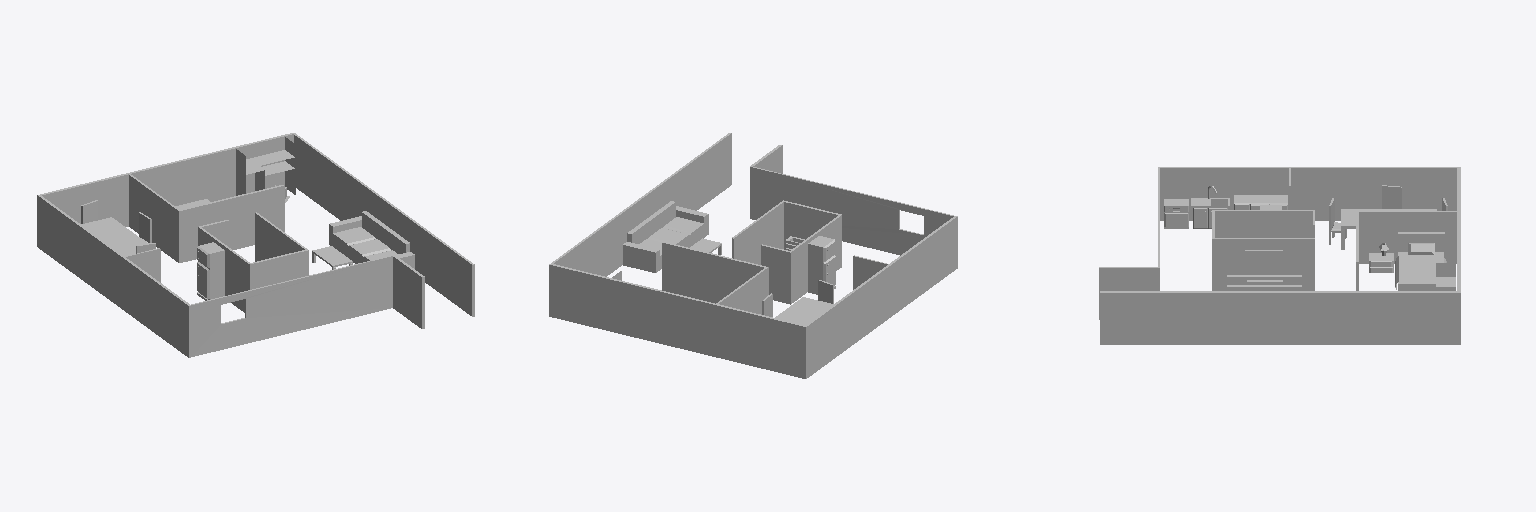
File: house.obj
The picture shows the model from 3 angles: view 1: azimuth 30°, elevation 25°; view 2: azimuth 150°, elevation 25°; view 3: azimuth 270°, elevation 25°; orthographic projection.
Visible parts, largest first — view 1: polySurface75; view 2: polySurface75; view 3: polySurface75.
Part boxes in pixels (x1,y1,x2,y2): polySurface75: (37, 133, 474, 357); polySurface75: (549, 133, 957, 378); polySurface75: (1099, 167, 1460, 344).
Size of the model in its own units: 128 by 25.01 by 156.